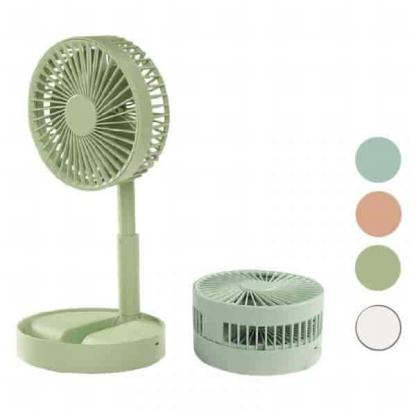fan: (10, 29, 176, 374)
